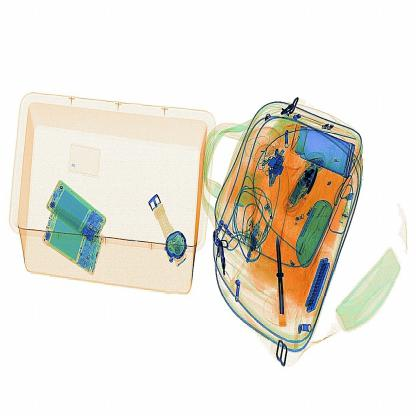gun: (273, 230, 291, 332)
